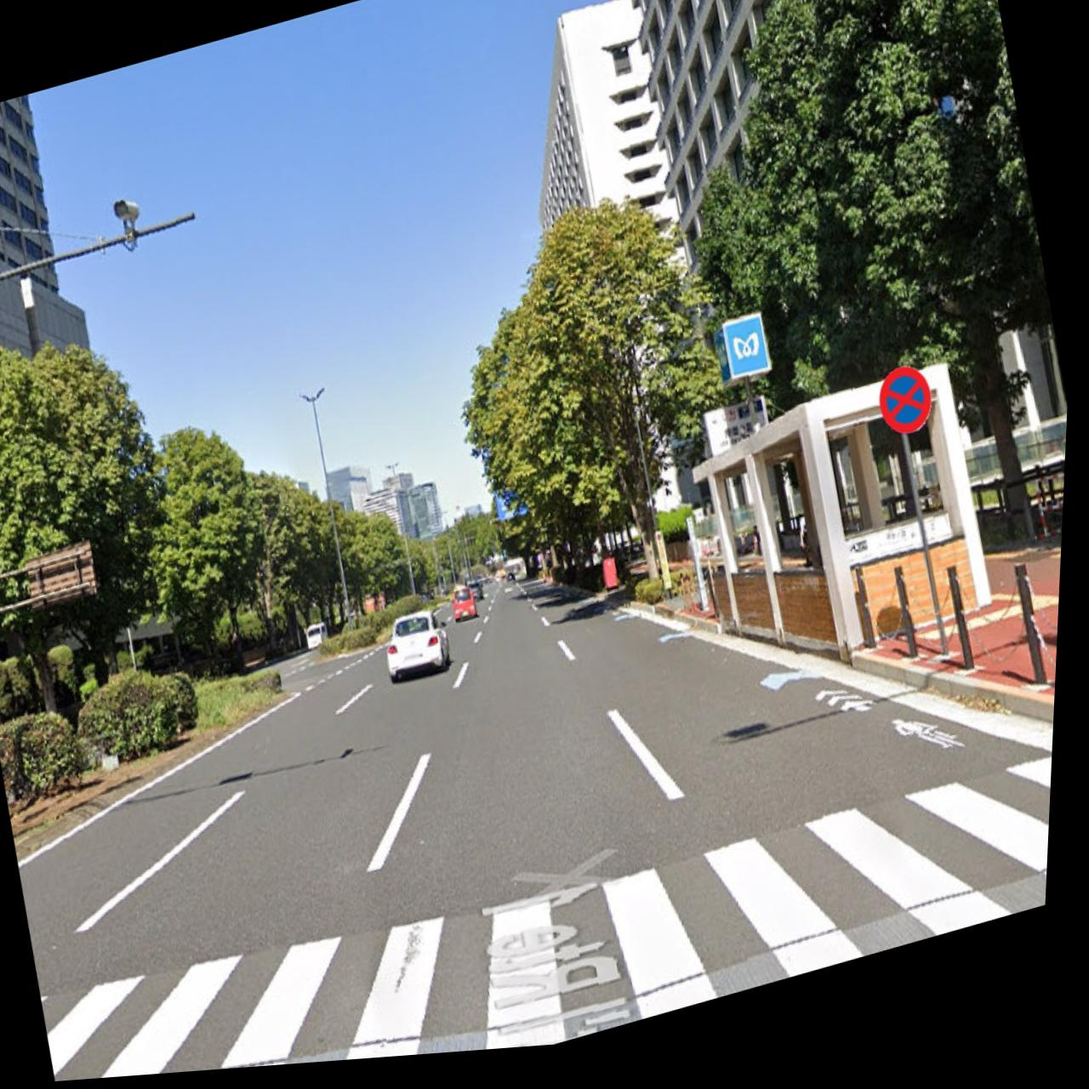stop_sign: (867, 357, 942, 445)
